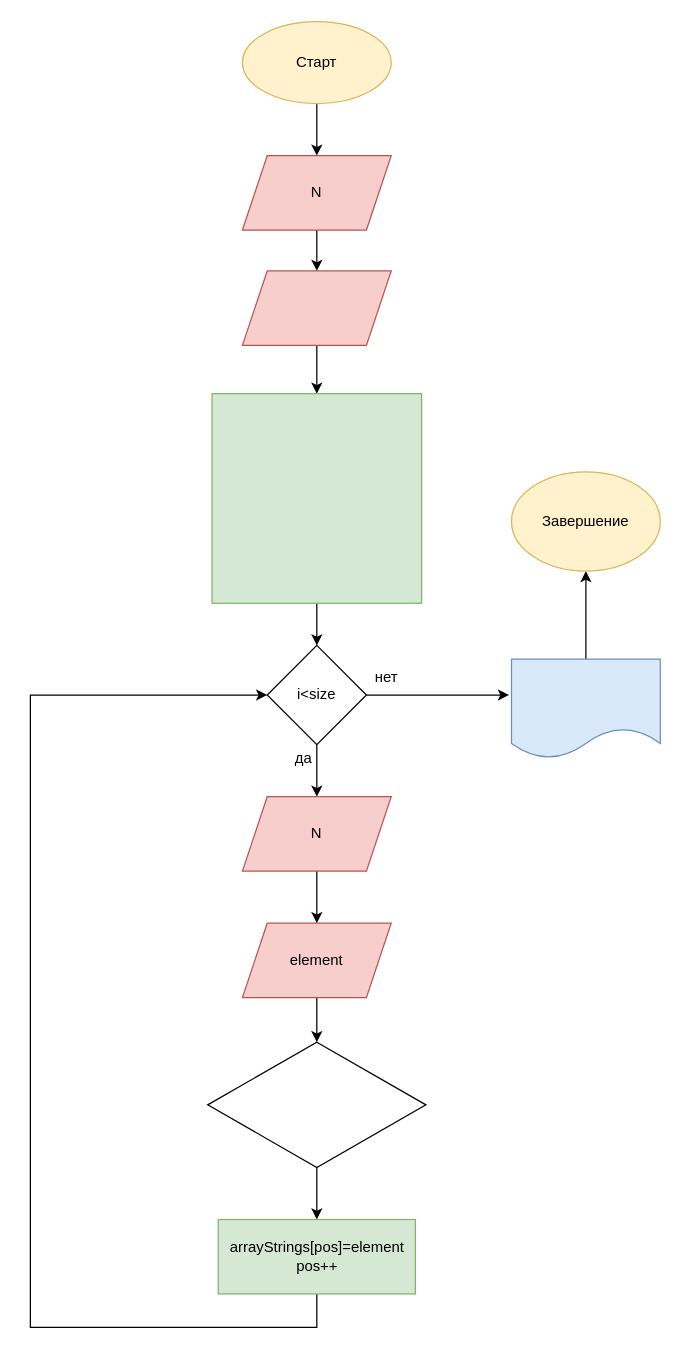
The diagram is 682 pixels wide and 1359 high, and some of its shapes have lost their labels. The shapes that lost their labels are listed below. From the top down, each one's centre as x and y in pixels, then its label:
At point (316, 307): "size".
At point (316, 497): "arrayStrings[size] element i=0 len=3 pos=0".
At point (585, 708): "PrintArray".
At point (316, 1104): "element.Length<=len".
